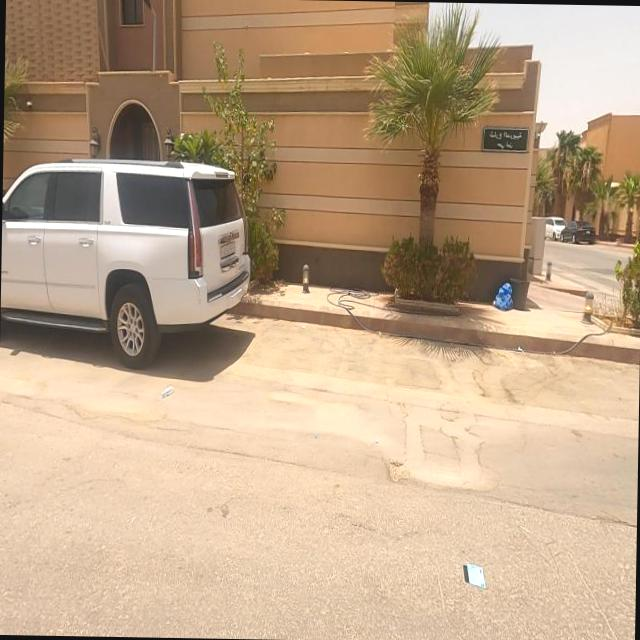debris: (462, 243, 545, 359)
